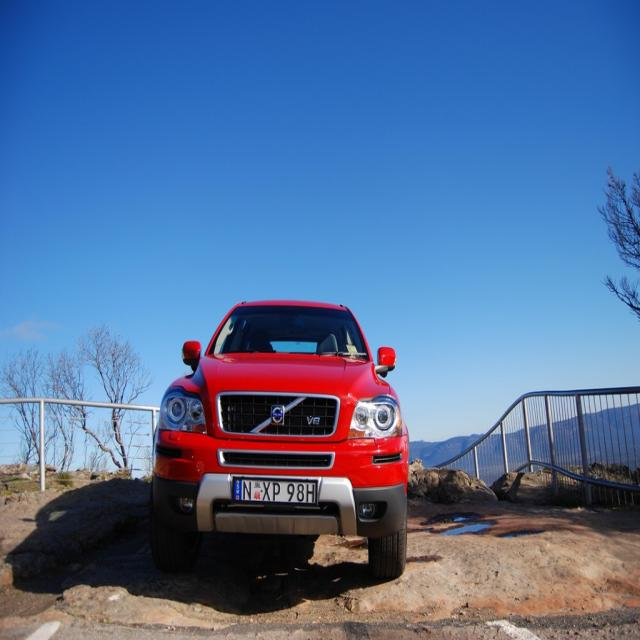car: (151, 298, 410, 578)
